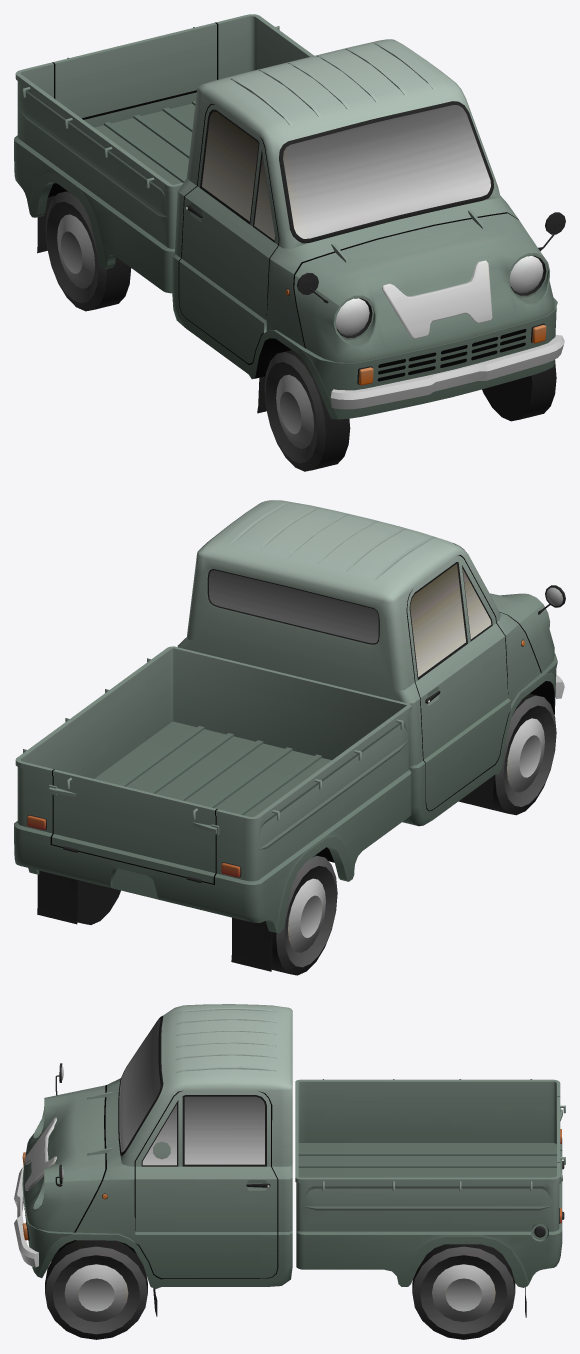
Rendered from vehicle-honda-t360-f72965.glb.
3 views of the same model, one above another, from view 1: azimuth 30°, elevation 25°; view 2: azimuth 150°, elevation 25°; view 3: azimuth 270°, elevation 25° (orthographic). The views are drawn at different scales.
Visible parts, largest first — view 1: body, wheel-front-right, wheel-back-right, wheel-front-left; view 2: body, wheel-front-right, wheel-back-right, wheel-back-left; view 3: body, wheel-front-left, wheel-back-left.
Boxes of the visible parts, bbox=[...] form: body: bbox=[14, 14, 565, 419]; wheel-front-right: bbox=[264, 350, 350, 471]; wheel-back-right: bbox=[45, 191, 131, 311]; wheel-front-left: bbox=[482, 360, 556, 421]; body: bbox=[14, 500, 565, 971]; wheel-front-right: bbox=[491, 693, 556, 815]; wheel-back-right: bbox=[272, 855, 337, 975]; wheel-back-left: bbox=[77, 880, 120, 924]; body: bbox=[14, 1004, 565, 1321]; wheel-front-left: bbox=[45, 1240, 147, 1339]; wheel-back-left: bbox=[412, 1244, 515, 1339].
Size of the model in its own units: 1.42 by 1.55 by 3.01.
Materials: 1 (1 with a texture image).
